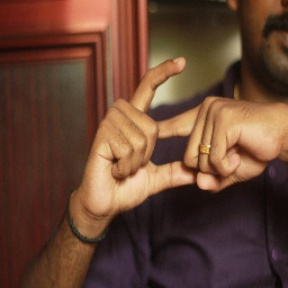E: (116, 50, 225, 196)
